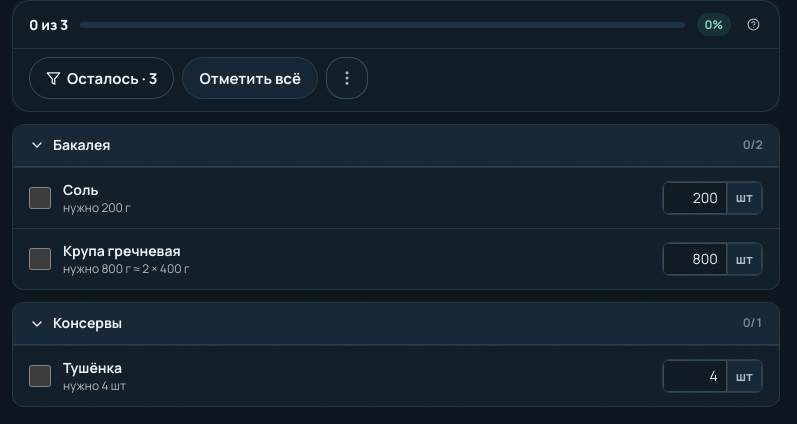
Scenario: ChecklistTab — прогресс и отметки (подзадача 6) › группа категории сворачивается и разворачивается
Step 1. Click the button with test id "checklist-group-Консервы" → click(88, 323), box top-left (13, 303), bottom-right (779, 345)
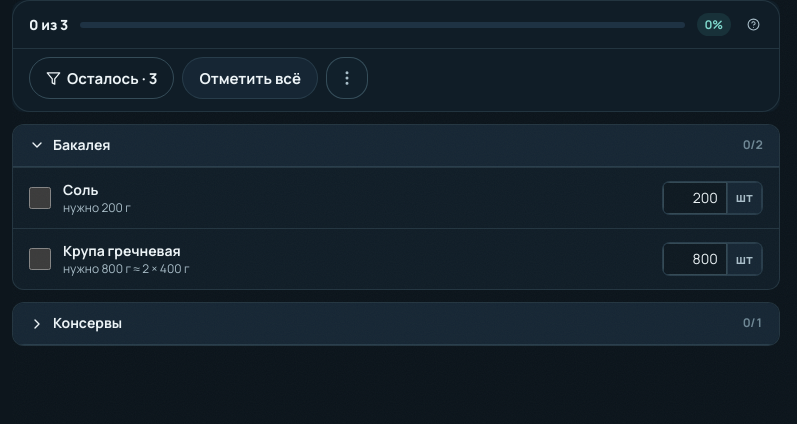
Expected: the button with test id "checklist-group-Консервы" is collapsed
Expected: the button "Тушёнка" is gone
Step 2. Click the button with test id "checklist-group-Консервы" → click(88, 323), box top-left (13, 303), bottom-right (779, 345)
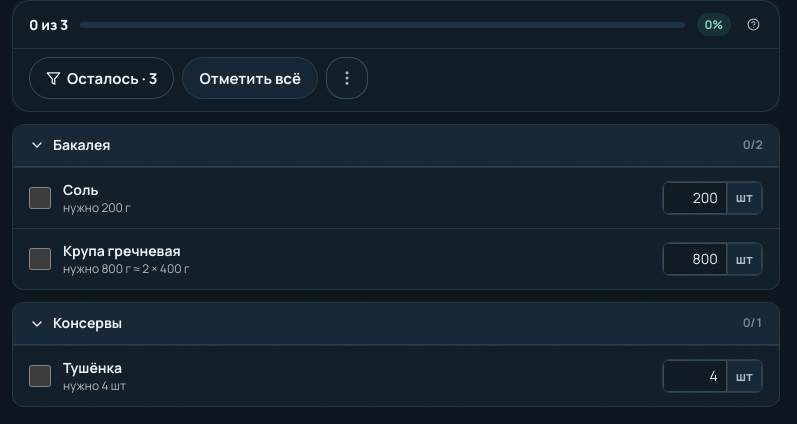
Expected: the text "Тушёнка" is shown, top-left (63, 358), bottom-right (122, 377)
